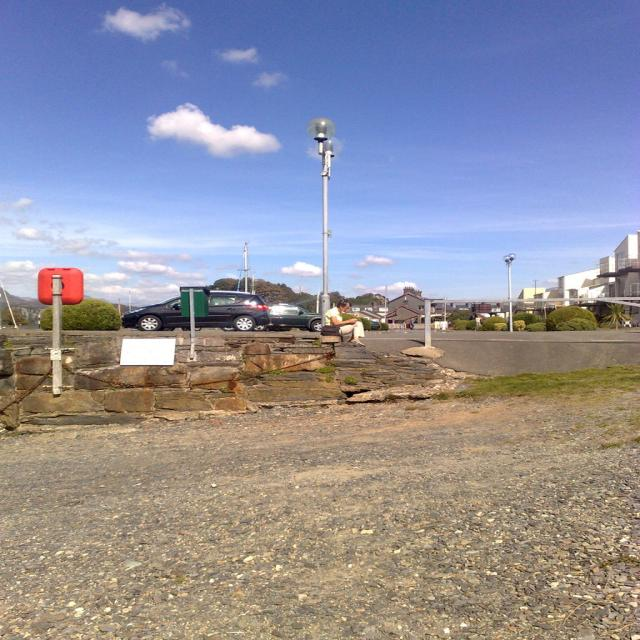car: (123, 274, 336, 329)
